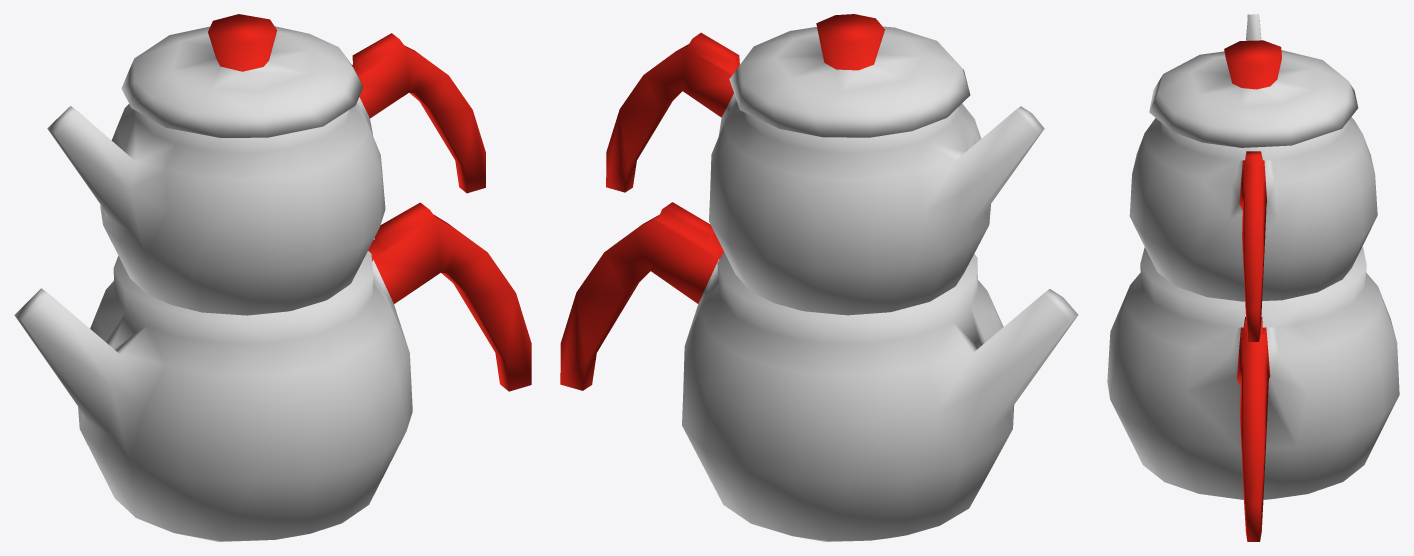
The model's file is cattle.fbx.
The picture shows the model from 3 angles, left to right: view 1: azimuth 30°, elevation 25°; view 2: azimuth 150°, elevation 25°; view 3: azimuth 270°, elevation 25°; orthographic projection. The views are drawn at different scales.
Visible parts, largest first — view 1: kettle; view 2: kettle; view 3: kettle.
Part boxes in pixels (left/top/right/bottom): kettle: left=14, top=14, right=531, bottom=541; kettle: left=560, top=14, right=1078, bottom=541; kettle: left=1107, top=14, right=1399, bottom=541.
Bounding box in the file's own units: 0.5197 × 0.4609 × 0.2963.
